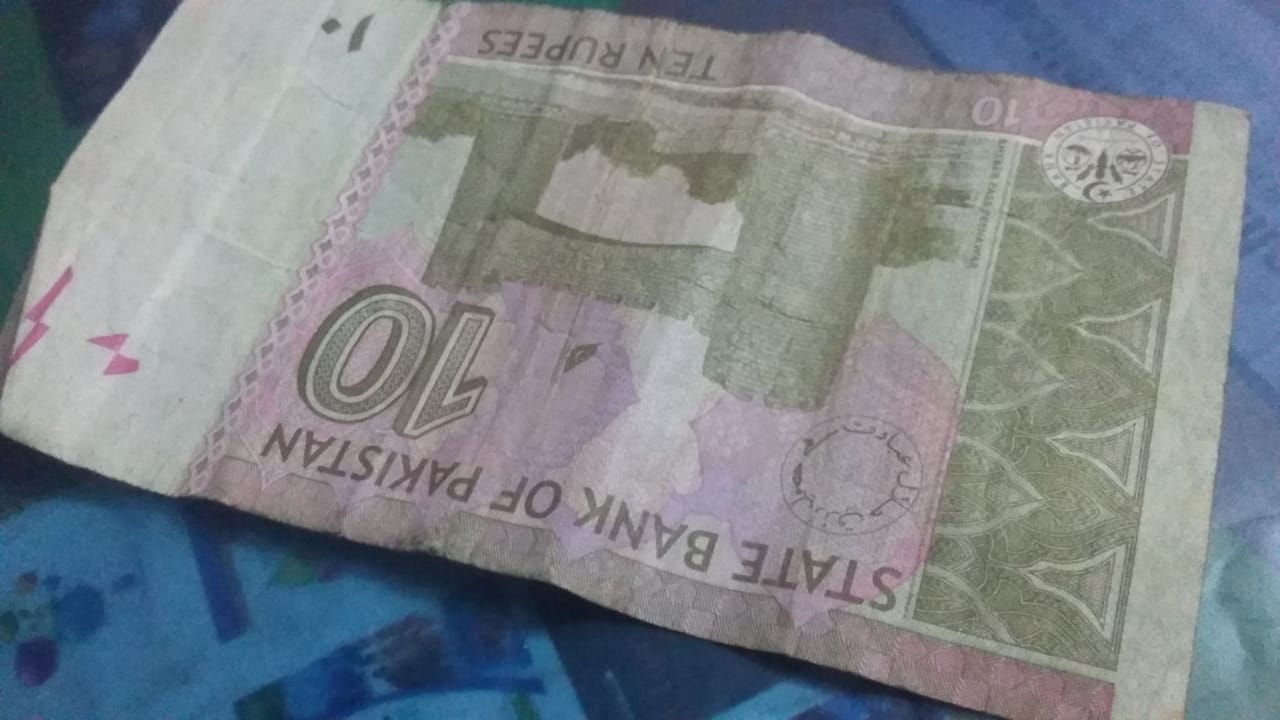10 rupee: (6, 3, 1280, 720)
